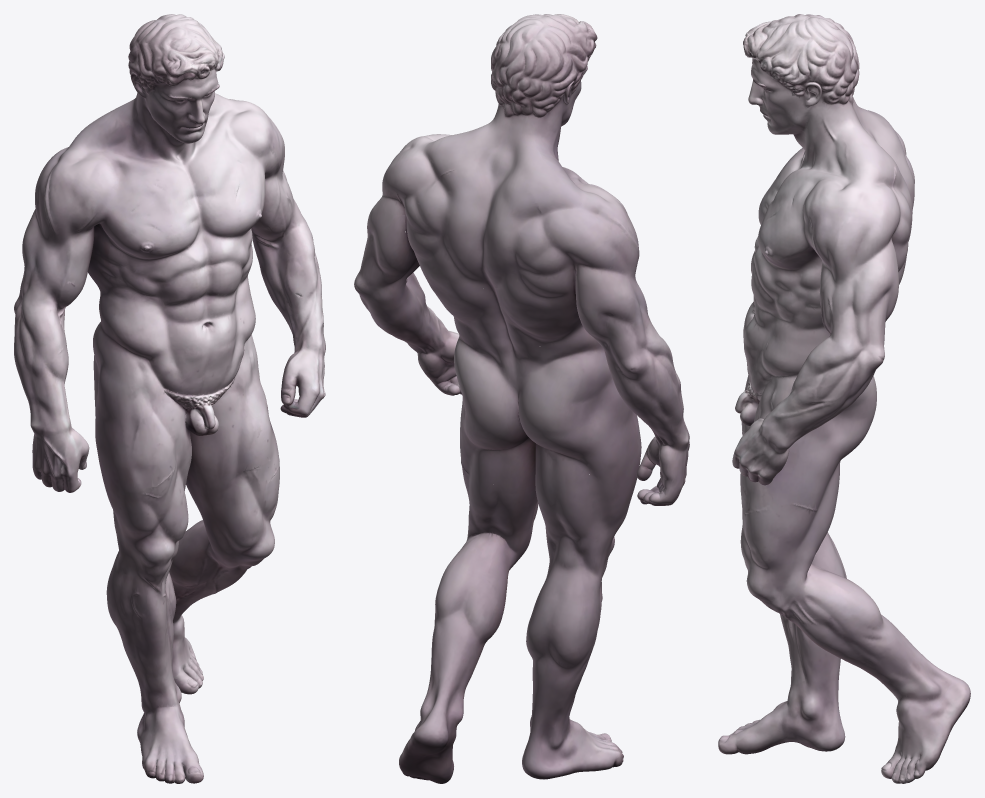
File: statue_1m.glb
The picture shows the model from 3 angles, left to right: view 1: azimuth 30°, elevation 25°; view 2: azimuth 150°, elevation 25°; view 3: azimuth 270°, elevation 25°; orthographic projection. The views are drawn at different scales.
Parts seen in each view (by area): view 1: tripo_node_0857c62b-3e84-4493-ab47-3138b92a57fe; view 2: tripo_node_0857c62b-3e84-4493-ab47-3138b92a57fe; view 3: tripo_node_0857c62b-3e84-4493-ab47-3138b92a57fe.
Part boxes in pixels (box(x1,y1,x2,y2)): tripo_node_0857c62b-3e84-4493-ab47-3138b92a57fe: box(14, 14, 325, 783); tripo_node_0857c62b-3e84-4493-ab47-3138b92a57fe: box(354, 14, 689, 783); tripo_node_0857c62b-3e84-4493-ab47-3138b92a57fe: box(718, 14, 970, 783).
Size of the model in its own units: 0.4158 by 0.9794 by 0.3011.
Materials: 1 (1 with a texture image).
